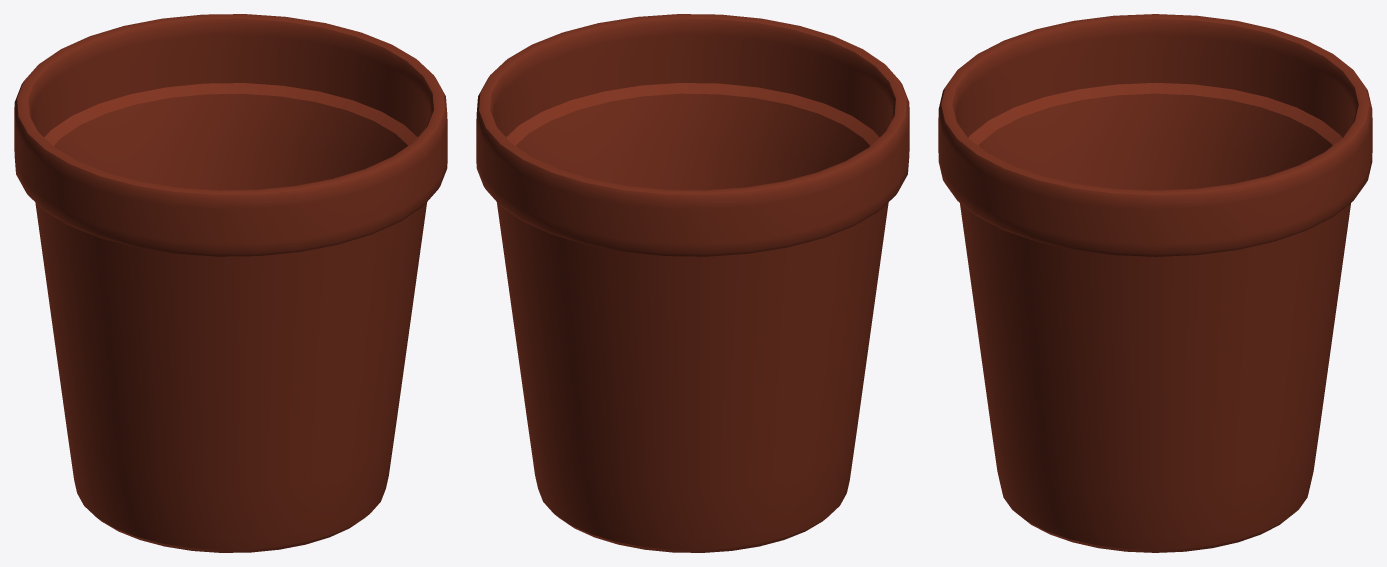
File: plantpot.fbx
3 renders of one model, left to right at view 1: azimuth 30°, elevation 25°; view 2: azimuth 150°, elevation 25°; view 3: azimuth 270°, elevation 25°, orthographic.
Parts seen in each view (by area): view 1: Cylinder.008; view 2: Cylinder.008; view 3: Cylinder.008.
Part boxes in pixels (x1,y1,x2,y2): Cylinder.008: [14, 14, 447, 552]; Cylinder.008: [476, 14, 909, 552]; Cylinder.008: [938, 14, 1372, 552].
Bounding box in the file's own units: 211 × 209 × 211.
